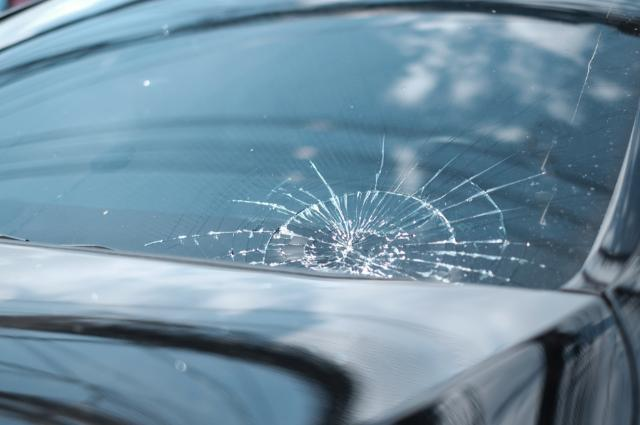Windshield: (20, 25, 640, 290)
